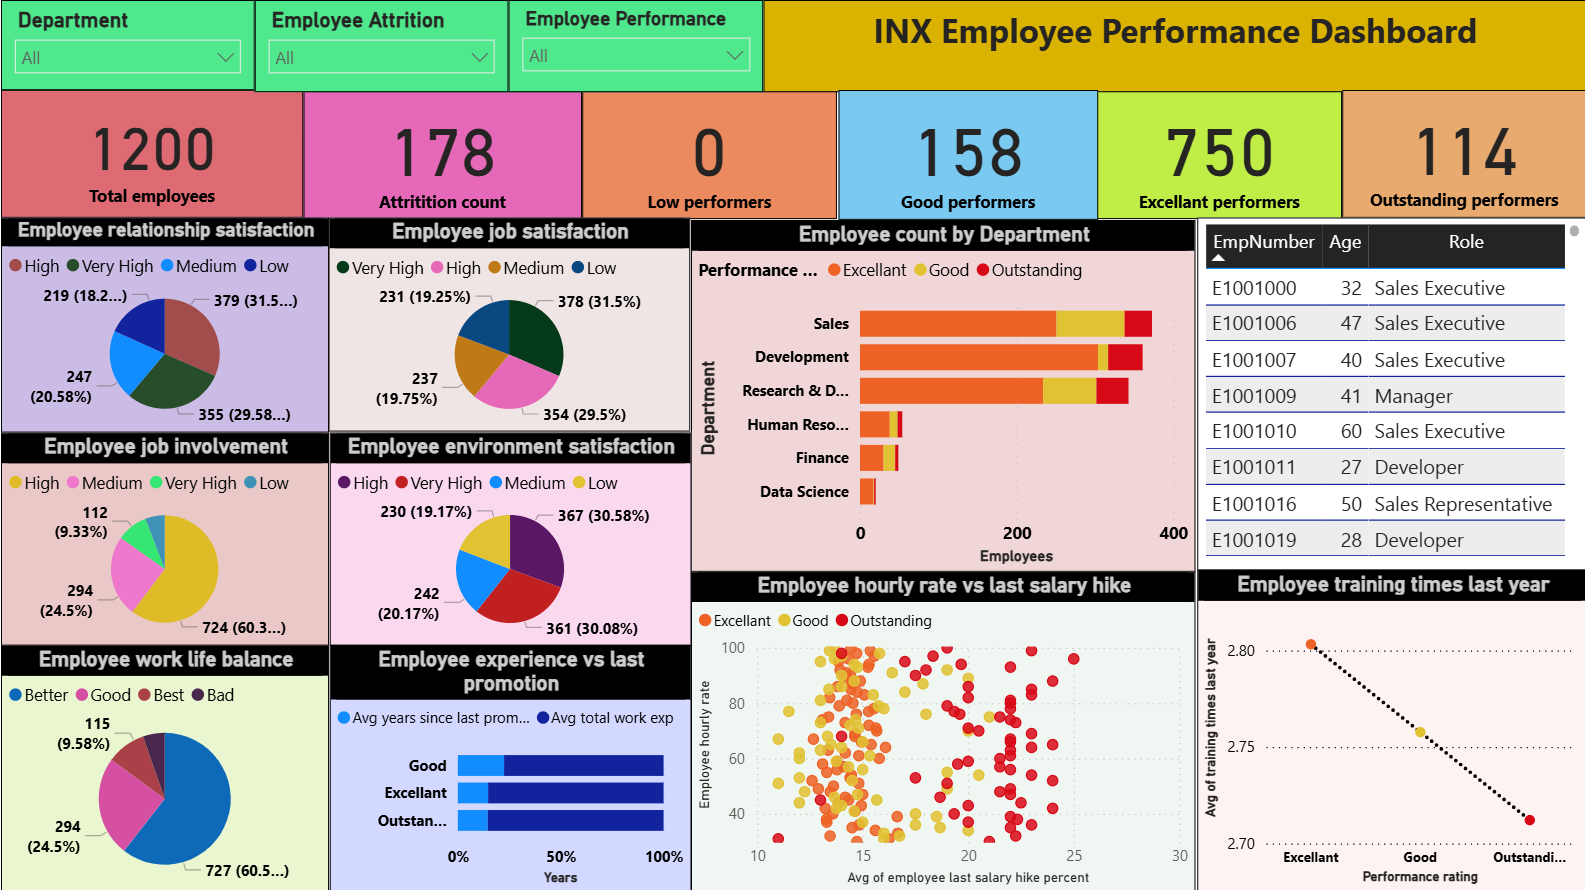

This screenshot's page, from the dashboard's own definition file:
{"tool":"powerbi","page":{"name":"Page 1","canvas":[1280,720],"ordinal":0},"visuals":[{"type":"textbox","box":[615.1,0,665.1,74.4],"z":0},{"type":"card","fields":{"Values":["INX_Future_Inc_Employee_Perform.nos_of_employees"]},"box":[0,72.7,244.3,102.9],"z":1000},{"type":"card","fields":{"Values":["INX_Future_Inc_Employee_Perform.nos_of_employees"]},"box":[244.3,74.1,225,102.9],"z":2000},{"type":"card","fields":{"Values":["INX_Future_Inc_Employee_Perform.nos_of_employees"]},"box":[469.3,74.1,205.8,102.9],"z":3000},{"type":"card","fields":{"Values":["INX_Future_Inc_Employee_Perform.nos_of_employees"]},"box":[675.7,74.8,209.7,101.8],"z":4000},{"type":"card","fields":{"Values":["INX_Future_Inc_Employee_Perform.nos_of_employees"]},"box":[885.1,74.1,197.6,102.9],"z":5000},{"type":"card","fields":{"Values":["INX_Future_Inc_Employee_Perform.nos_of_employees"]},"box":[1082.7,72.7,197.6,102.9],"z":6000},{"type":"tableEx","fields":{"Values":["INX_Future_Inc_Employee_Perform.EmpNumber","INX_Future_Inc_Employee_Perform.Age","INX_Future_Inc_Employee_Perform.EmpJobRole"]},"box":[965.1,175.4,315.2,284.5],"z":7000},{"type":"slicer","fields":{"Values":["INX_Future_Inc_Employee_Perform.EmpDepartment"]},"box":[0,0,204.5,72.7],"z":8000},{"type":"barChart","title":"Employee count by Department","fields":{"Category":["INX_Future_Inc_Employee_Perform.EmpDepartment"],"Series":["INX_Future_Inc_Employee_Perform.Performance rating description"],"Y":["CountNonNull(INX_Future_Inc_Employee_Perform.EmpNumber)"]},"box":[557,177.1,407.6,283.8],"z":9000},{"type":"slicer","fields":{"Values":["INX_Future_Inc_Employee_Perform.Attrition"]},"box":[204.7,0,204.7,74.4],"z":10000},{"type":"slicer","fields":{"Values":["INX_Future_Inc_Employee_Perform.Performance rating description"]},"box":[409.3,0,205.8,74.4],"z":11000},{"type":"pieChart","title":"Employee environment satisfaction","fields":{"Y":["CountNonNull(INX_Future_Inc_Employee_Perform.EmpNumber)"],"Category":["INX_Future_Inc_Employee_Perform.Employee environment satisfaction"]},"box":[265.1,348.8,291.9,172.1],"z":12000},{"type":"pieChart","title":"Employee job satisfaction","fields":{"Y":["CountNonNull(INX_Future_Inc_Employee_Perform.EmpNumber)"],"Category":["INX_Future_Inc_Employee_Perform.Employee job satisfaction descr"]},"box":[264.8,175.6,292.3,172.9],"z":13000},{"type":"pieChart","title":"Employee work life balance","fields":{"Y":["CountNonNull(INX_Future_Inc_Employee_Perform.EmpNumber)"],"Category":["INX_Future_Inc_Employee_Perform.Employee work life description"]},"box":[0,520.9,265.1,200],"z":14000},{"type":"pieChart","title":"Employee relationship satisfaction","fields":{"Y":["CountNonNull(INX_Future_Inc_Employee_Perform.EmpNumber)"],"Category":["INX_Future_Inc_Employee_Perform.Employee rel satisfaction descr"]},"box":[0,175.6,265.1,173.3],"z":15000},{"type":"pieChart","title":"Employee job involvement","fields":{"Y":["CountNonNull(INX_Future_Inc_Employee_Perform.EmpNumber)"],"Category":["INX_Future_Inc_Employee_Perform.Employee job involvment description"]},"box":[0,348.8,265.1,172.1],"z":16000},{"type":"hundredPercentStackedBarChart","title":"Employee experience vs last promotion","fields":{"Category":["INX_Future_Inc_Employee_Perform.Performance rating description"],"Y":["Avg(INX_Future_Inc_Employee_Perform.YearsSinceLastPromotion)","Avg(INX_Future_Inc_Employee_Perform.TotalWorkExperienceInYears)"]},"box":[265.1,520.9,291.9,200],"z":17000},{"type":"scatterChart","title":"Employee hourly rate vs last salary hike","fields":{"X":["Avg(INX_Future_Inc_Employee_Perform.EmpLastSalaryHikePercent)"],"Y":["INX_Future_Inc_Employee_Perform.EmpHourlyRate"],"Series":["INX_Future_Inc_Employee_Perform.Performance rating description"]},"box":[557.1,461.1,407.5,259.3],"z":18000},{"type":"lineChart","title":"Employee training times last year","fields":{"Category":["INX_Future_Inc_Employee_Perform.Performance rating description"],"Y":["Avg(INX_Future_Inc_Employee_Perform.TrainingTimesLastYear)"]},"box":[965.1,459.9,315.2,260],"z":19000}]}

Visuals, with their boxes in screenshot pixels (x1, y1, x2, y2), scaled from the page's 1280x720 canvas onto the 1585x890 screenshot:
textbox: BBox(762, 0, 1584, 92)
card - INX_Future_Inc_Employee_Perform.nos_of_employees: BBox(0, 90, 303, 217)
card - INX_Future_Inc_Employee_Perform.nos_of_employees: BBox(303, 92, 581, 219)
card - INX_Future_Inc_Employee_Perform.nos_of_employees: BBox(581, 92, 836, 219)
card - INX_Future_Inc_Employee_Perform.nos_of_employees: BBox(837, 92, 1096, 218)
card - INX_Future_Inc_Employee_Perform.nos_of_employees: BBox(1096, 92, 1341, 219)
card - INX_Future_Inc_Employee_Perform.nos_of_employees: BBox(1341, 90, 1584, 217)
tableEx - INX_Future_Inc_Employee_Perform.EmpNumber x INX_Future_Inc_Employee_Perform.Age: BBox(1195, 217, 1584, 568)
slicer - INX_Future_Inc_Employee_Perform.EmpDepartment: BBox(0, 0, 253, 90)
"Employee count by Department" barChart: BBox(690, 219, 1194, 570)
slicer - INX_Future_Inc_Employee_Perform.Attrition: BBox(253, 0, 507, 92)
slicer - INX_Future_Inc_Employee_Perform.Performance rating description: BBox(507, 0, 762, 92)
"Employee environment satisfaction" pieChart: BBox(328, 431, 690, 644)
"Employee job satisfaction" pieChart: BBox(328, 217, 690, 431)
"Employee work life balance" pieChart: BBox(0, 644, 328, 889)
"Employee relationship satisfaction" pieChart: BBox(0, 217, 328, 431)
"Employee job involvement" pieChart: BBox(0, 431, 328, 644)
"Employee experience vs last promotion" hundredPercentStackedBarChart: BBox(328, 644, 690, 889)
"Employee hourly rate vs last salary hike" scatterChart: BBox(690, 570, 1194, 889)
"Employee training times last year" lineChart: BBox(1195, 568, 1584, 889)
